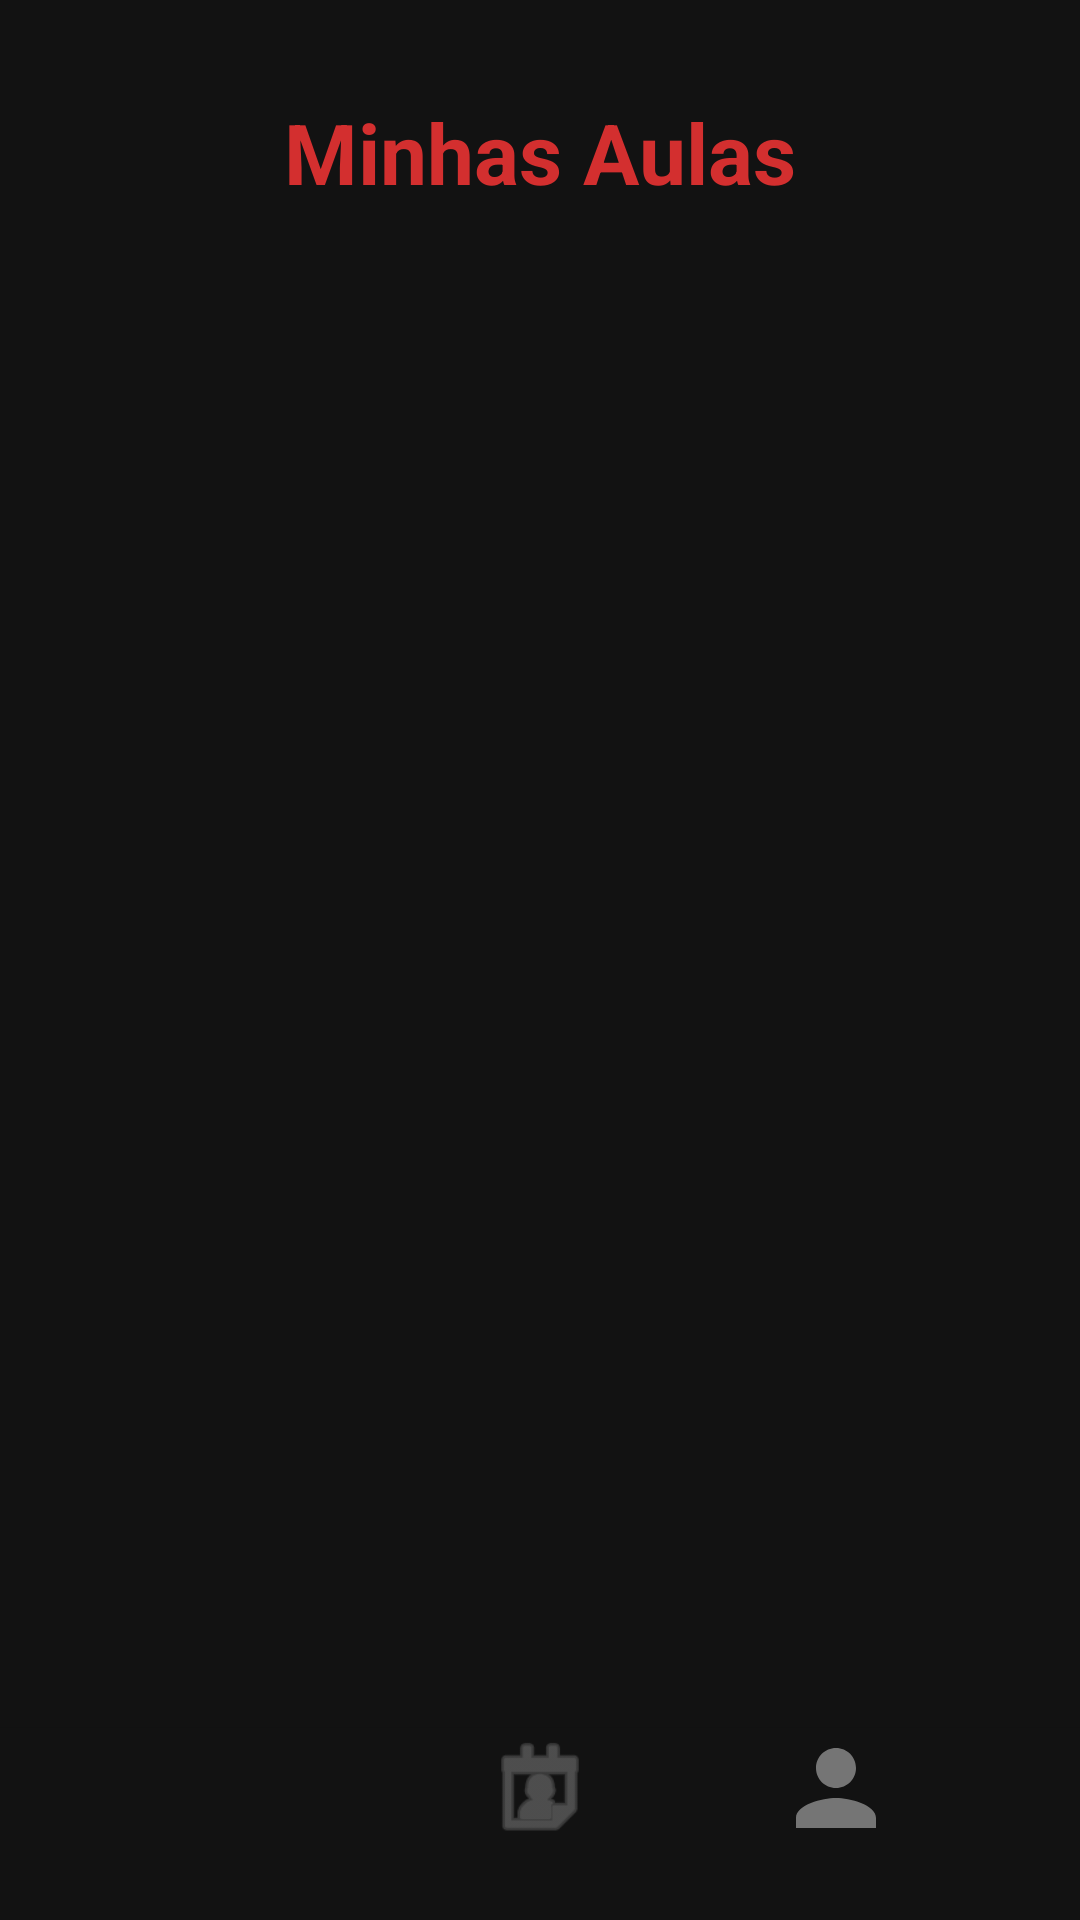

Point at icon controls on the screen. Image size 1080×1920, points as [x,y].
calendar: [540,1786]
Perfil: [836,1788]
